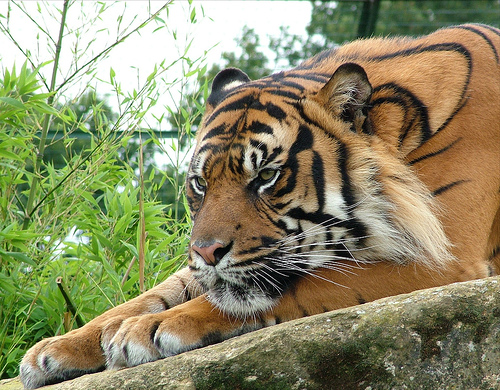Tigre: (141, 33, 493, 299)
